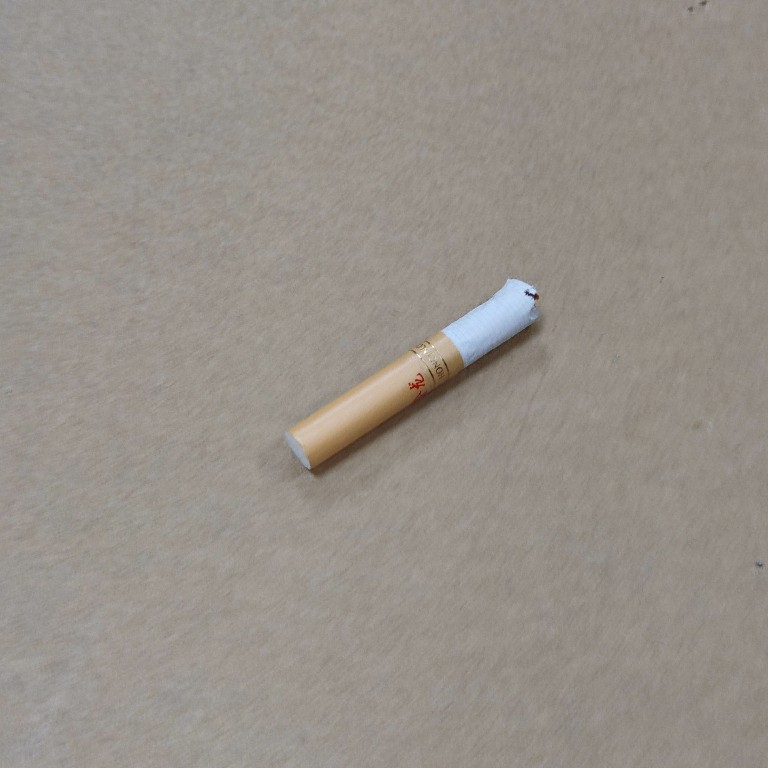cigarette: (281, 273, 547, 474)
